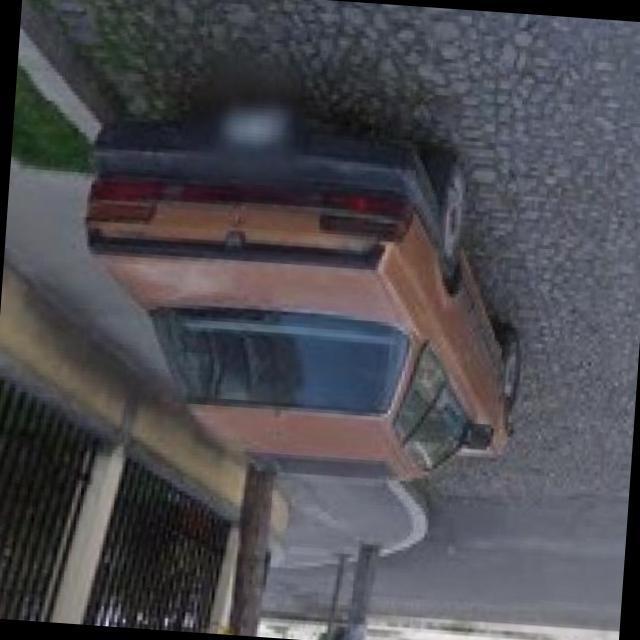car: (72, 100, 537, 478)
